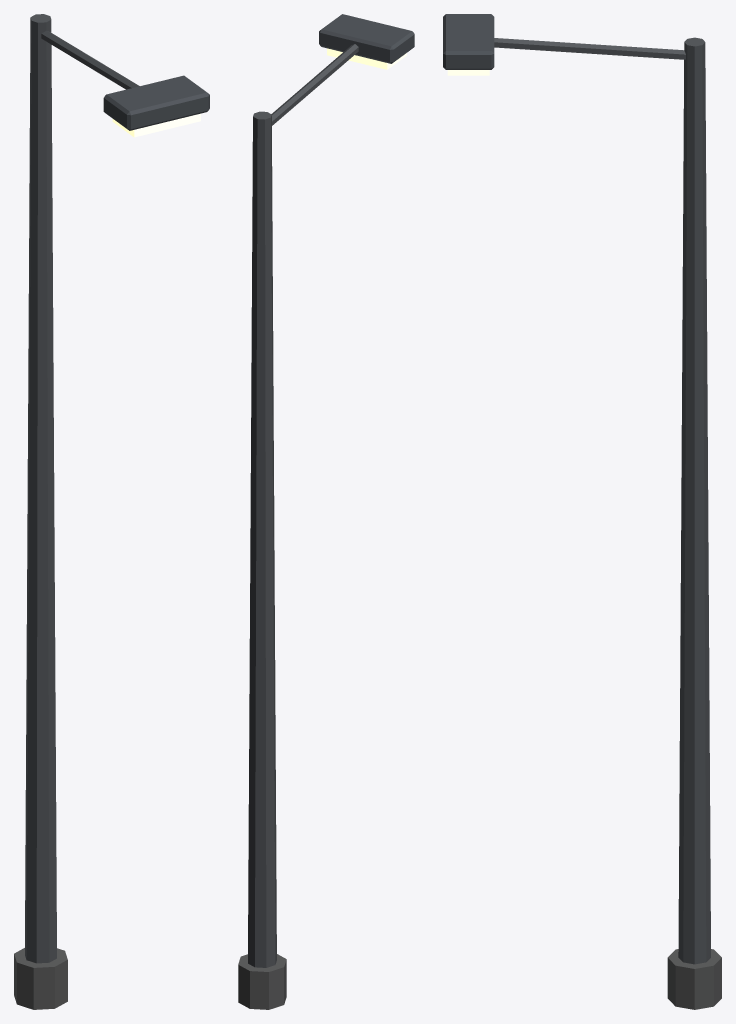
Rendered from street_light.glb.
The picture shows the model from 3 angles, left to right: view 1: azimuth 30°, elevation 25°; view 2: azimuth 150°, elevation 25°; view 3: azimuth 270°, elevation 25°; orthographic projection. The views are drawn at different scales.
Parts seen in each view (by area): view 1: pole, lamp; view 2: pole, lamp; view 3: pole.
Part boxes in pixels (x1=…): pole: x1=14, y1=14, x2=209, y2=1009; lamp: x1=112, y1=113, x2=200, y2=137; pole: x1=238, y1=14, x2=414, y2=1009; lamp: x1=327, y1=48, x2=406, y2=69; pole: x1=443, y1=14, x2=721, y2=1009.
Size of the model in its own units: 0.6197 by 7.07 by 1.85.
